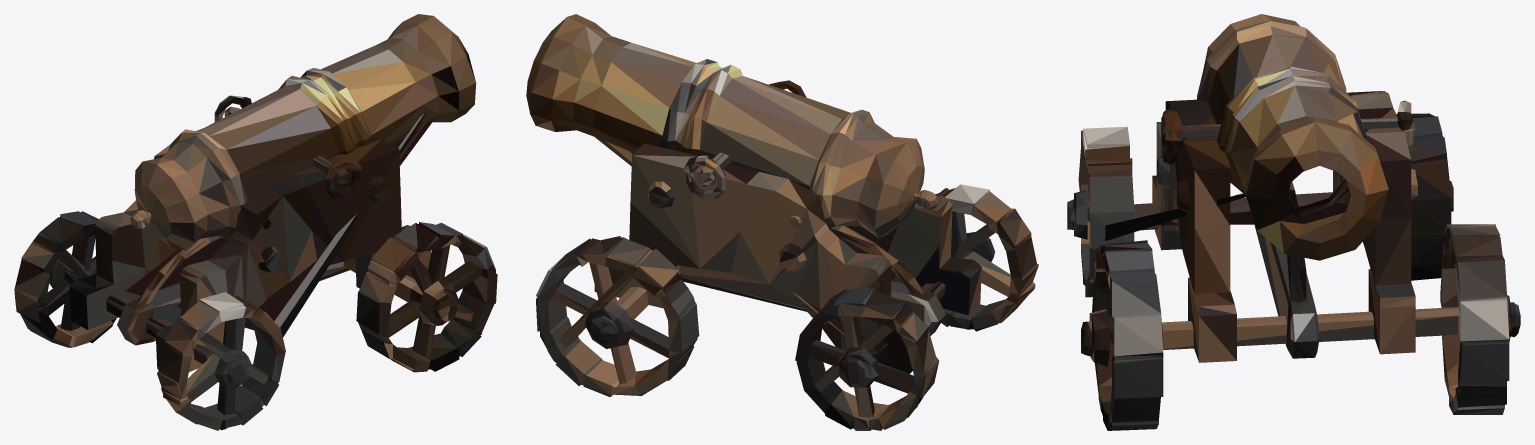
File: Cannon.glb
3 renders of one model, left to right at view 1: azimuth 30°, elevation 25°; view 2: azimuth 150°, elevation 25°; view 3: azimuth 270°, elevation 25°, orthographic. The views are drawn at different scales.
Visible parts, largest first — view 1: world; view 2: world; view 3: world.
Boxes of the visible parts, <box> form: world: <box>14,14,497,430</box>; world: <box>526,14,1038,430</box>; world: <box>1067,14,1520,430</box>.
Size of the model in its own units: 0.5215 by 0.3398 by 0.3965.
